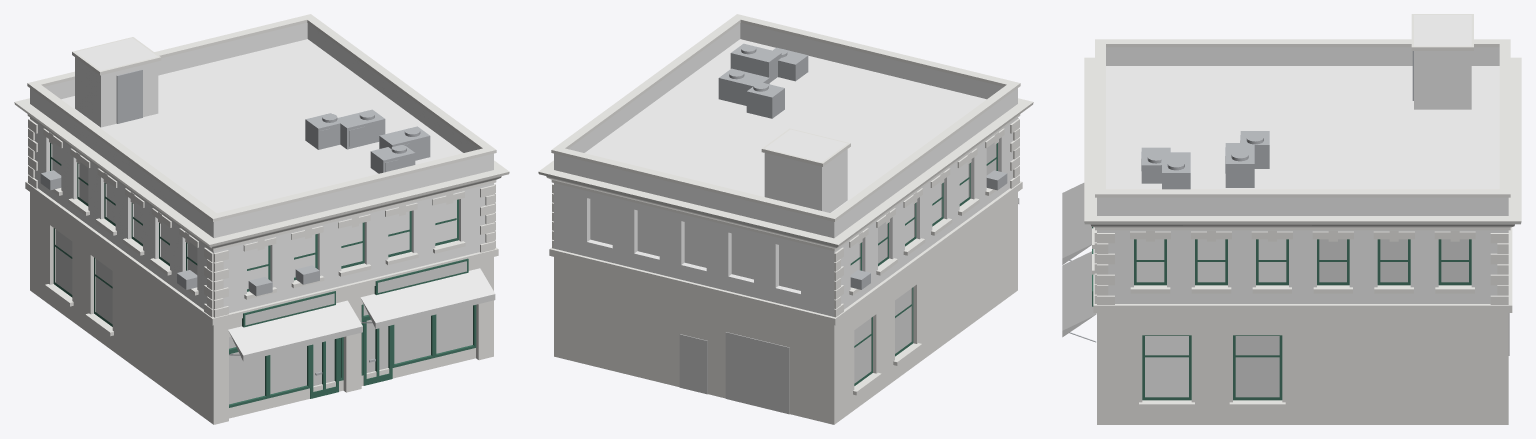
Rendered from midtown_w44f1b.glb.
3 renders of one model, left to right at view 1: azimuth 30°, elevation 25°; view 2: azimuth 150°, elevation 25°; view 3: azimuth 270°, elevation 25°, orthographic. The views are drawn at different scales.
Visible parts, largest first — view 1: midtown_w44f1b_Trim, midtown_w44f1b_Walls, midtown_w44f1b_Roof, midtown_w44f1b_WindowsLit, midtown_w44f1b_Awning, midtown_w44f1b_Details, midtown_w44f1b_Frames, midtown_w44f1b_Glass, midtown_w44f1b_Sign; view 2: midtown_w44f1b_Trim, midtown_w44f1b_Walls, midtown_w44f1b_Roof, midtown_w44f1b_Glass, midtown_w44f1b_Doors, midtown_w44f1b_Details, midtown_w44f1b_WindowsLit, midtown_w44f1b_Frames; view 3: midtown_w44f1b_Trim, midtown_w44f1b_Roof, midtown_w44f1b_Walls, midtown_w44f1b_Glass, midtown_w44f1b_WindowsLit, midtown_w44f1b_Frames, midtown_w44f1b_Details, midtown_w44f1b_Awning.
Part boxes in pixels (x1,y1,x2,y2): midtown_w44f1b_Trim: (14, 14, 509, 424); midtown_w44f1b_Walls: (30, 23, 493, 313); midtown_w44f1b_Roof: (61, 38, 462, 213); midtown_w44f1b_WindowsLit: (55, 162, 472, 404); midtown_w44f1b_Awning: (228, 268, 495, 361); midtown_w44f1b_Details: (40, 69, 430, 375); midtown_w44f1b_Frames: (50, 143, 476, 407); midtown_w44f1b_Glass: (52, 142, 456, 289); midtown_w44f1b_Sign: (245, 261, 466, 325); midtown_w44f1b_Trim: (538, 14, 1033, 424); midtown_w44f1b_Walls: (554, 23, 1017, 316); midtown_w44f1b_Roof: (585, 39, 986, 213); midtown_w44f1b_Glass: (590, 162, 968, 290); midtown_w44f1b_Doors: (679, 332, 789, 414); midtown_w44f1b_Details: (718, 43, 1007, 289); midtown_w44f1b_WindowsLit: (854, 142, 995, 383); midtown_w44f1b_Frames: (850, 143, 997, 385); midtown_w44f1b_Trim: (1084, 14, 1521, 424); midtown_w44f1b_Roof: (1106, 15, 1499, 189); midtown_w44f1b_Walls: (1097, 47, 1508, 303); midtown_w44f1b_Glass: (1136, 239, 1286, 397); midtown_w44f1b_WindowsLit: (1235, 239, 1468, 397); midtown_w44f1b_Frames: (1092, 226, 1471, 400); midtown_w44f1b_Details: (1069, 51, 1413, 342); midtown_w44f1b_Awning: (1062, 183, 1096, 337).
Size of the model in its own units: 47.12 by 36.54 by 55.76.
